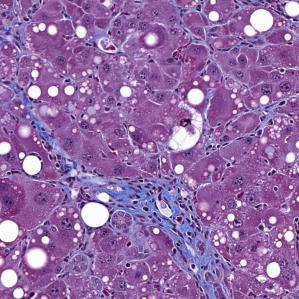fibrosis: (67, 168, 205, 246)
